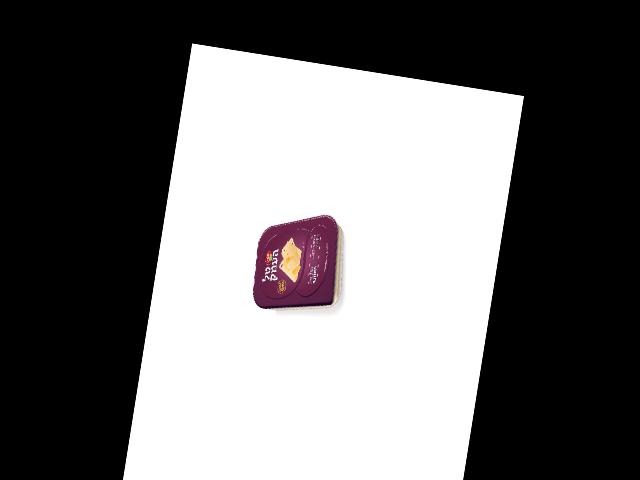cheese: (247, 204, 352, 320)
